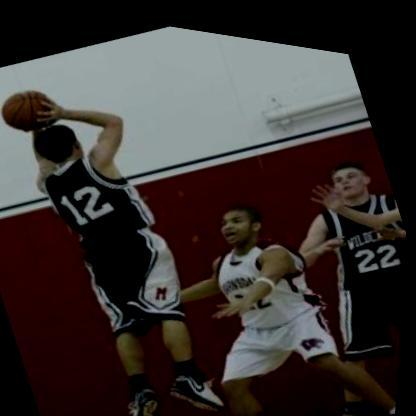basketball: (0, 67, 72, 147)
